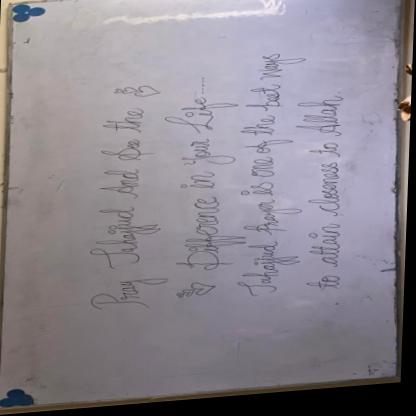Handwritten text: (76, 103, 163, 324), (236, 45, 306, 313), (159, 98, 244, 281), (297, 92, 365, 304)
